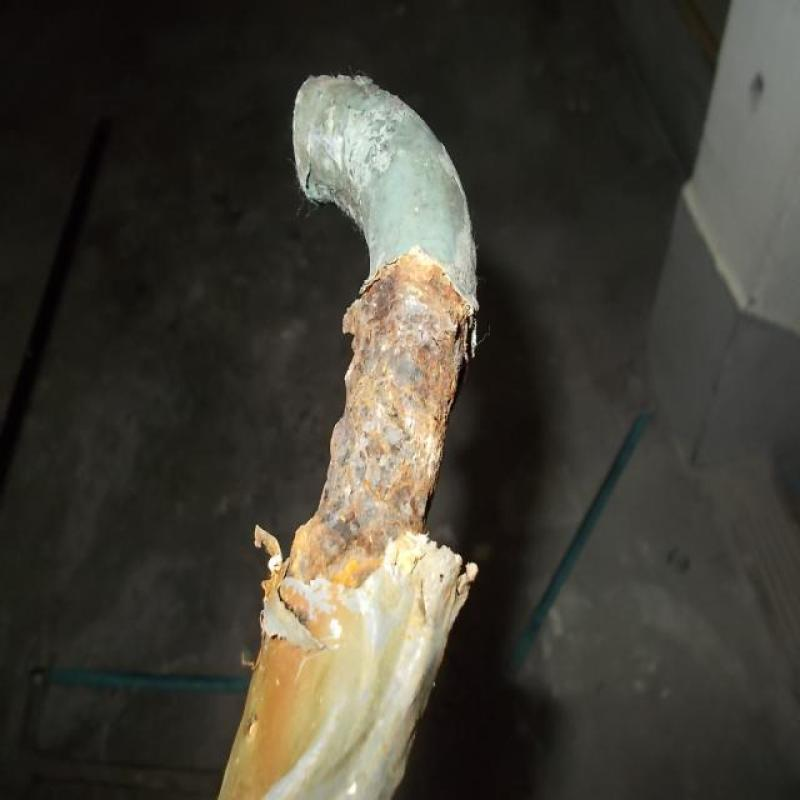Fracture: (352, 262, 392, 588)
